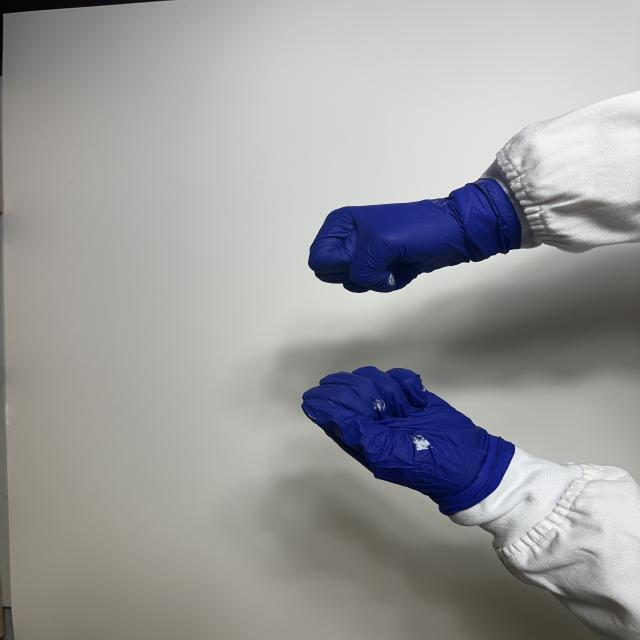gloves_contaminated: (302, 367, 514, 515), (308, 179, 520, 292)
